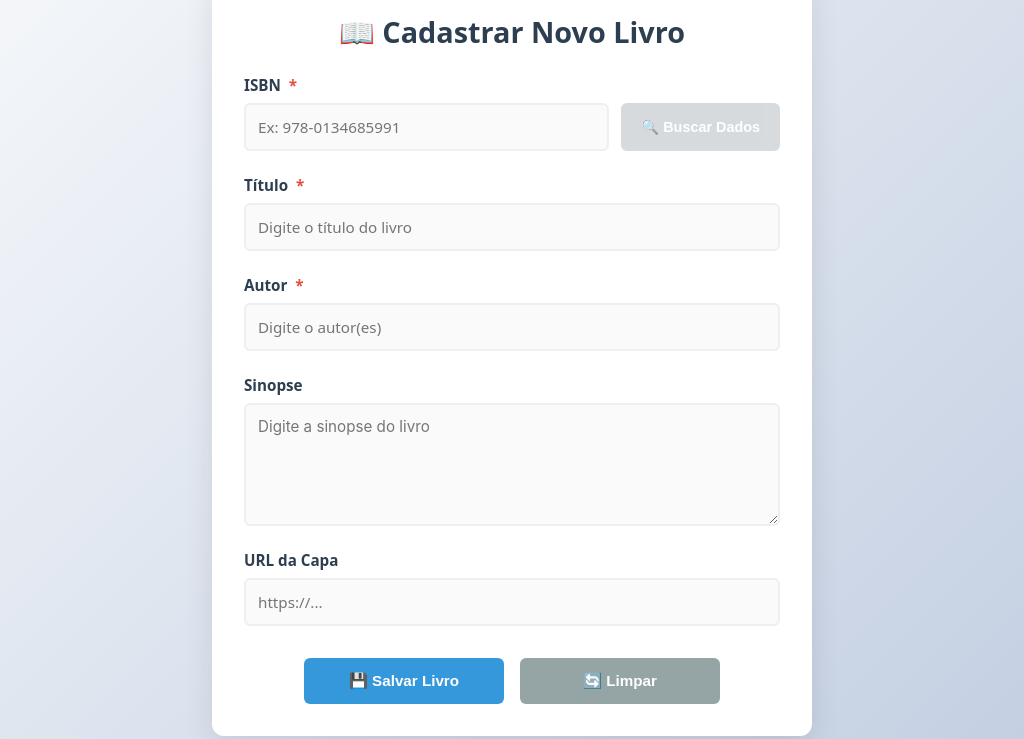
FormularioCadastroLivro - Componente › Mensagens de feedback › deve exibir erro quando ISBN é vazio ao salvar
(page scrolled)
Click the button "💾 Salvar Livro": click(404, 681) [304,658,504,704]
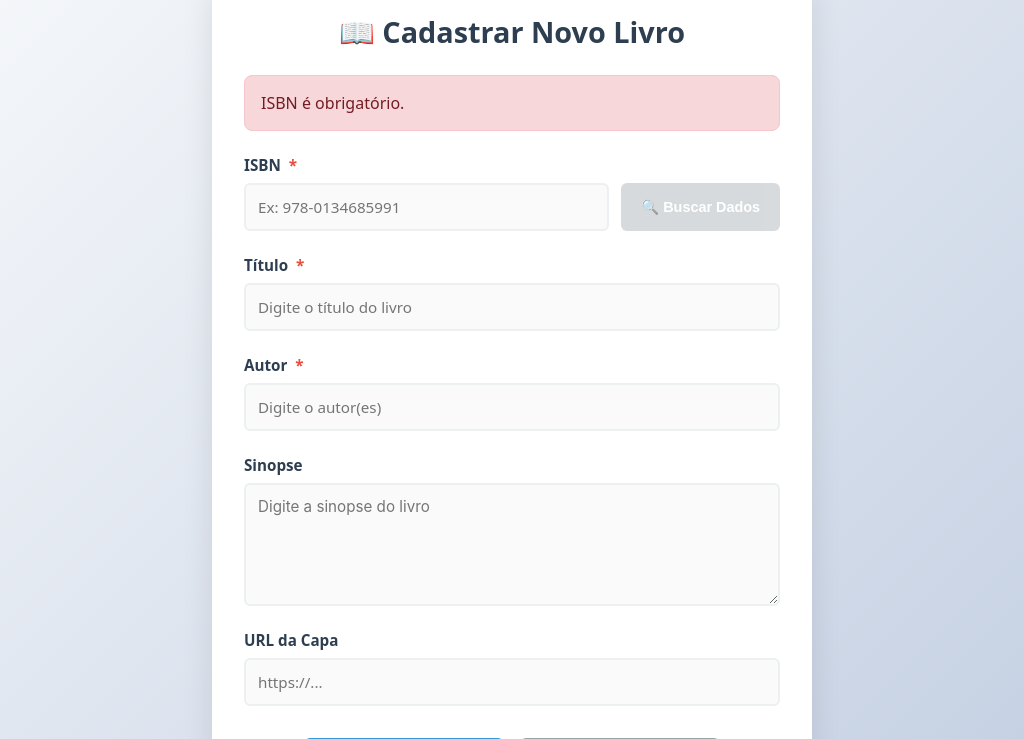
Now the text "ISBN é obrigatório." is shown, box [244,75,780,131]
